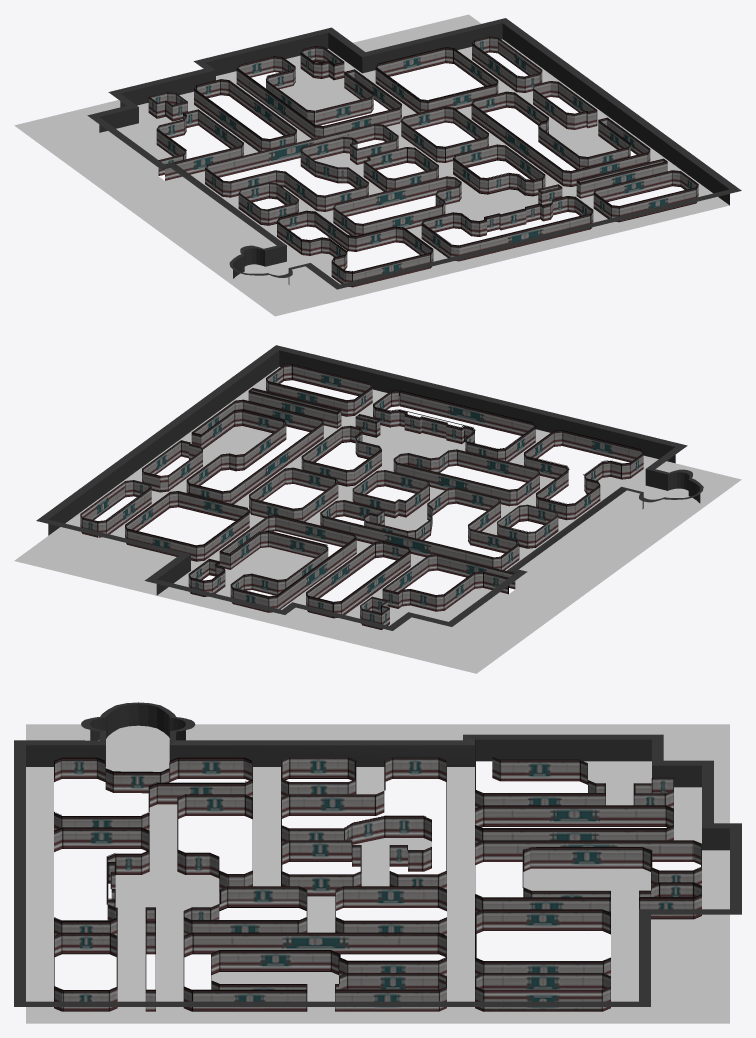
File: MapaTexturizado.fbx
3 renders of one model, top to bottom at view 1: azimuth 30°, elevation 25°; view 2: azimuth 150°, elevation 25°; view 3: azimuth 270°, elevation 25°, orthographic. The views are drawn at different scales.
Parts seen in each view (by area): view 1: ParedeI, Chão, ParedeE; view 2: ParedeI, Chão, ParedeE; view 3: ParedeI, Chão, ParedeE.
Part boxes in pixels (x1,y1,x2,y2): ParedeI: [148, 36, 698, 287]; Chão: [14, 14, 729, 316]; ParedeE: [87, 18, 741, 289]; ParedeI: [80, 364, 643, 629]; Chão: [14, 366, 741, 673]; ParedeE: [36, 345, 703, 630]; ParedeI: [54, 739, 701, 1011]; Chão: [26, 724, 729, 1023]; ParedeE: [14, 702, 741, 1006].
Size of the model in its own units: 9027 by 300 by 9124.
